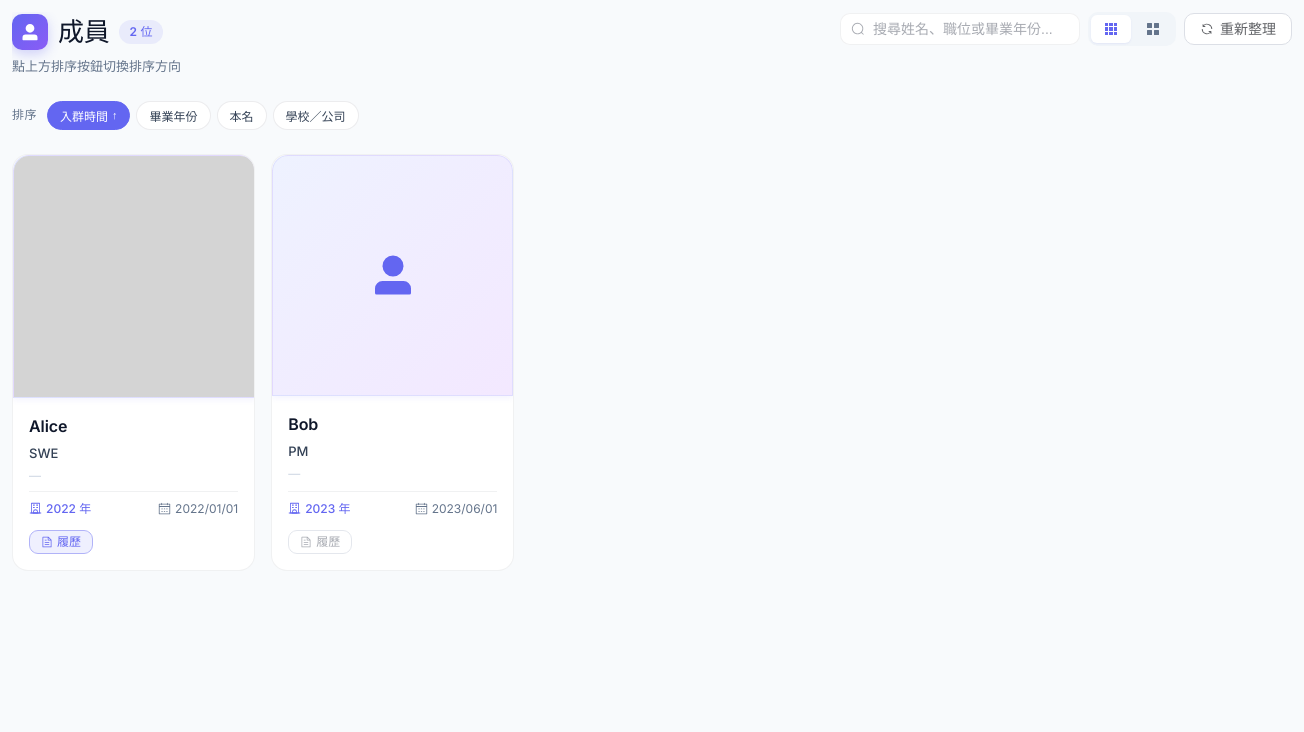
Test: Members.vue › grid mode: clicking a different sort pill switches the active key (asc default)
This screenshot has width=1304, height=732.
Click the button with test id "sort-graduation_year" at [174, 115], box [136,100,210,130]
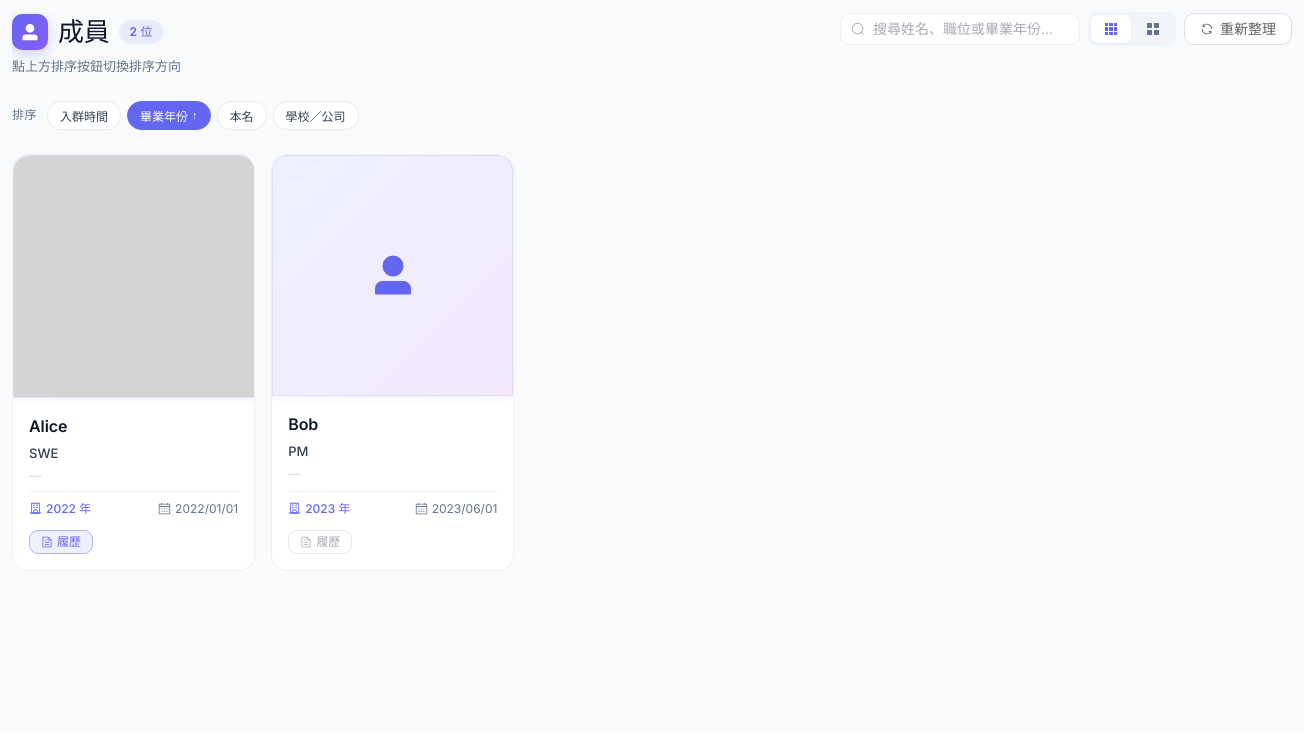
Expected: the button with test id "sort-graduation_year" shows "↑", [127,100,210,130]
